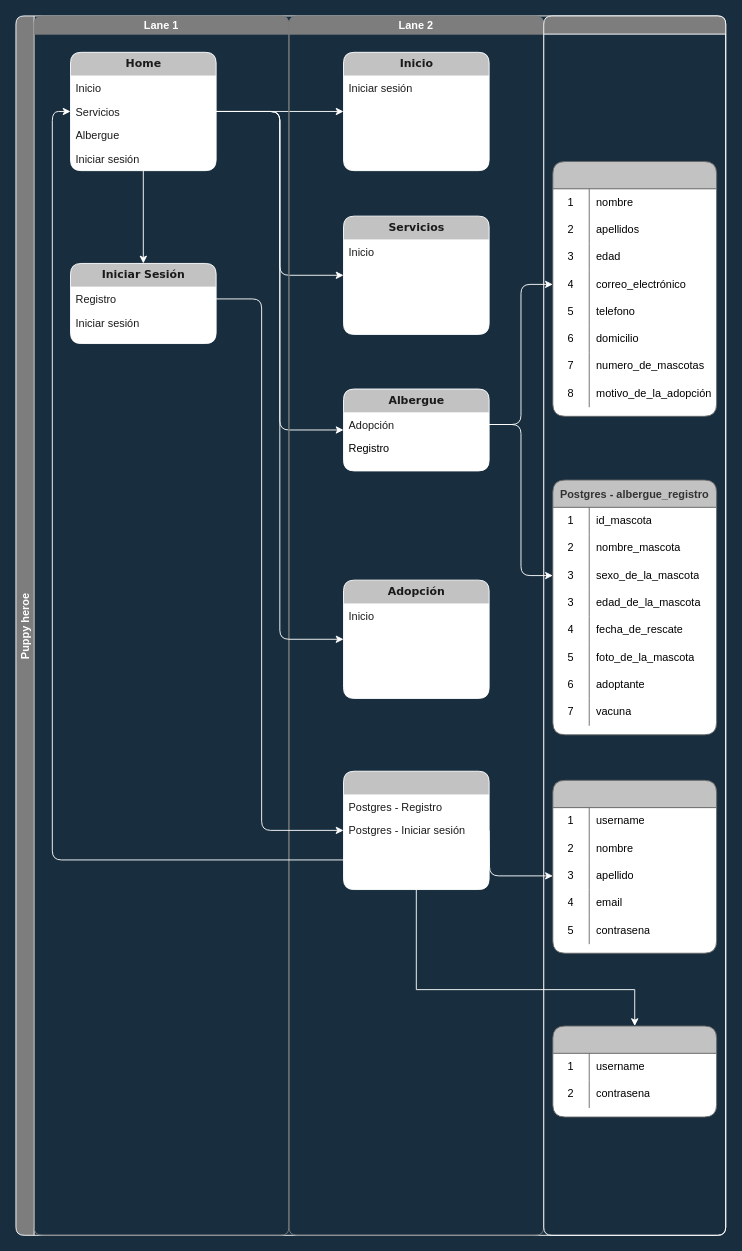
This 742x1251 diagram has some shape labels left out. Here are the shapes that lost their labels. From the top down, the box of each, then its label:
(552, 161, 717, 416): Postgres - albergue_adopcion
(543, 15, 726, 1235): puppy_heroe
(343, 770, 489, 890): Registro de usuario
(552, 779, 717, 953): Postgres - sesion_registro
(552, 1025, 717, 1117): Postgres - sesion_iniciar
